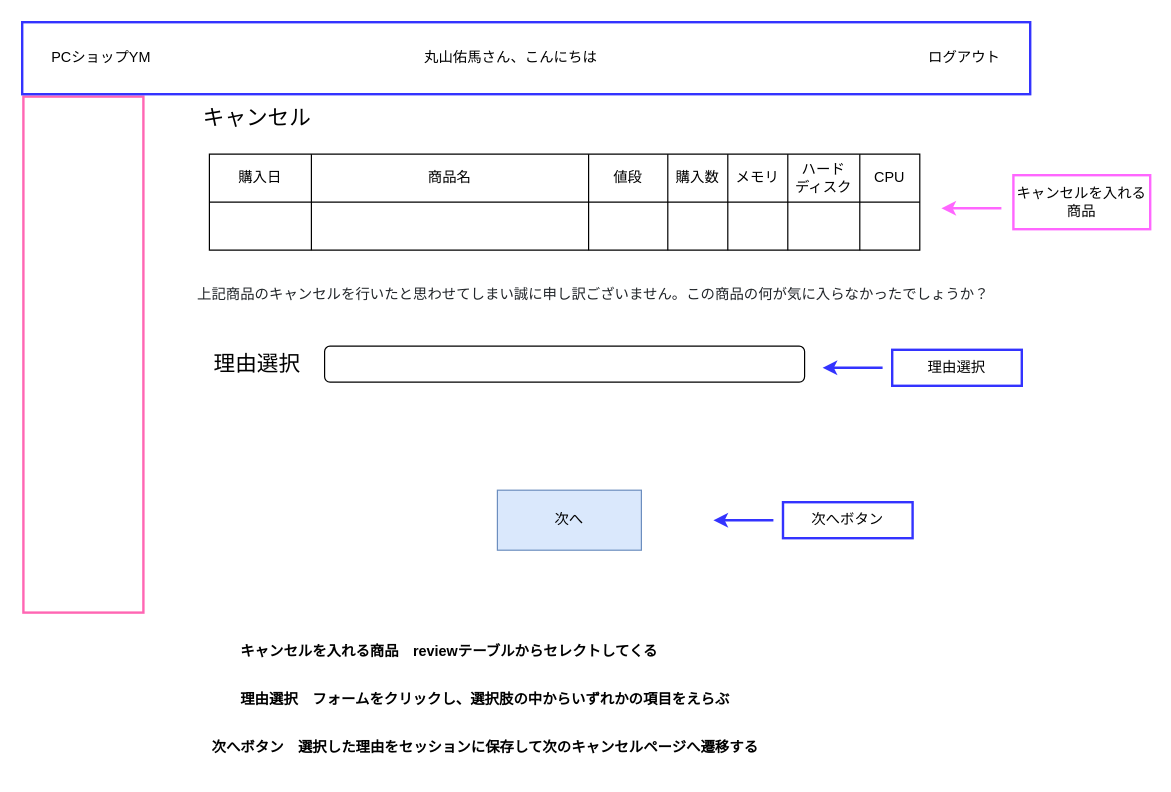
Image size: 1171x792. Some labels were removed from this diagram. Here are the shapes that lost their labels. From the top down, the centre of each, then its label:
point 83,354: JCBカード登録 管理者専用画面
point 564,363: ‐‐‐‐‐‐‐‐‐‐‐‐‐‐‐‐‐‐‐‐‐‐‐‐‐‐‐‐‐‐‐‐‐‐‐‐‐‐‐‐‐‐‐‐‐‐‐‐‐‐‐‐‐‐ V
